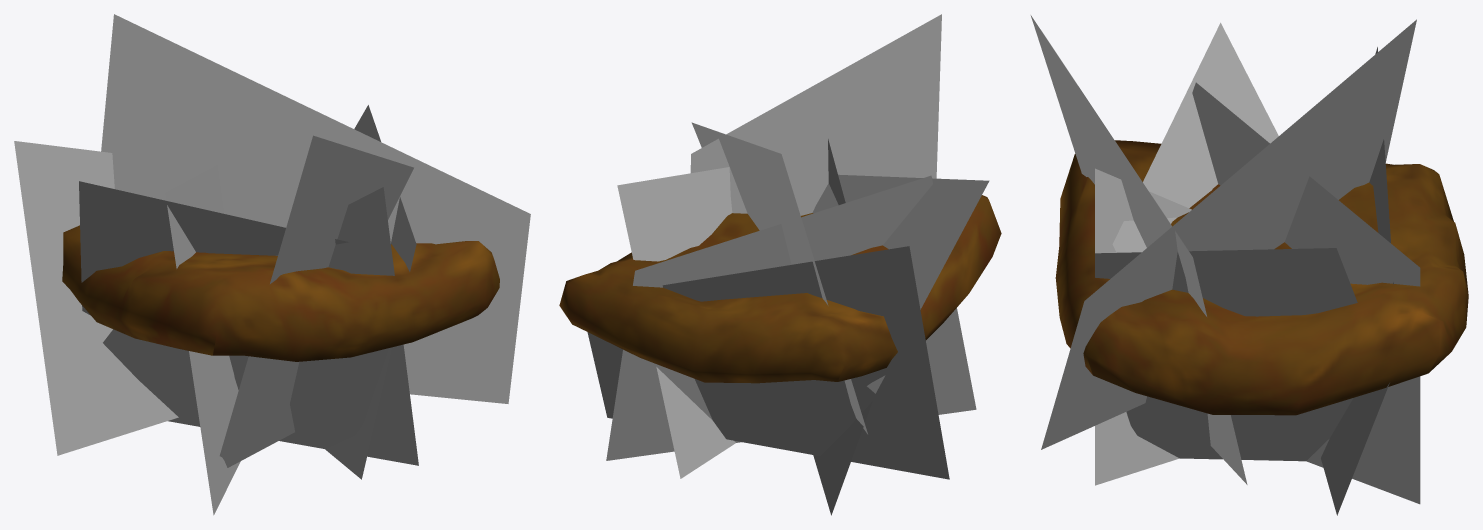
File: hvs_farming_soil_neglected_pose1.fbx
3 views of the same model, side by side, from view 1: azimuth 30°, elevation 25°; view 2: azimuth 150°, elevation 25°; view 3: azimuth 270°, elevation 25° (orthographic). The views are drawn at different scales.
Visible parts, largest first — view 1: hvs_farming_soil_neglected_pose1; view 2: hvs_farming_soil_neglected_pose1; view 3: hvs_farming_soil_neglected_pose1.
Boxes of the visible parts, left/top/right/bottom form: hvs_farming_soil_neglected_pose1: left=14, top=14, right=530, bottom=515; hvs_farming_soil_neglected_pose1: left=559, top=14, right=1001, bottom=515; hvs_farming_soil_neglected_pose1: left=1030, top=15, right=1468, bottom=515.
Size of the model in its own units: 4.3 by 4.11 by 4.06.
